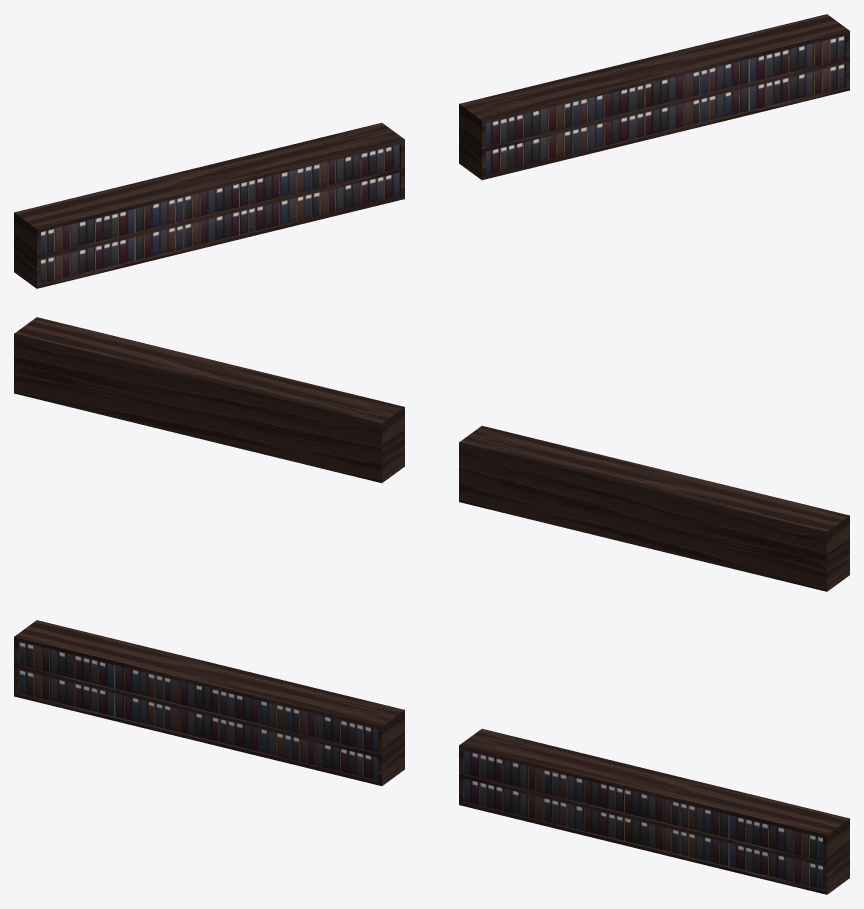
Rendered from Estanterias cortas.fbx.
The picture shows the model from 3 angles, top to bottom: view 1: azimuth 30°, elevation 25°; view 2: azimuth 150°, elevation 25°; view 3: azimuth 330°, elevation 25°; orthographic projection.
Visible parts, largest first — view 1: estanteria-medio; view 2: estanteria-medio; view 3: estanteria-medio.
Boxes of the visible parts, x1,y1,x2,y2 form: estanteria-medio: (14, 14, 849, 288); estanteria-medio: (14, 317, 849, 591); estanteria-medio: (14, 620, 849, 894).
Size of the model in its own units: 1496 by 105 by 72.84.
